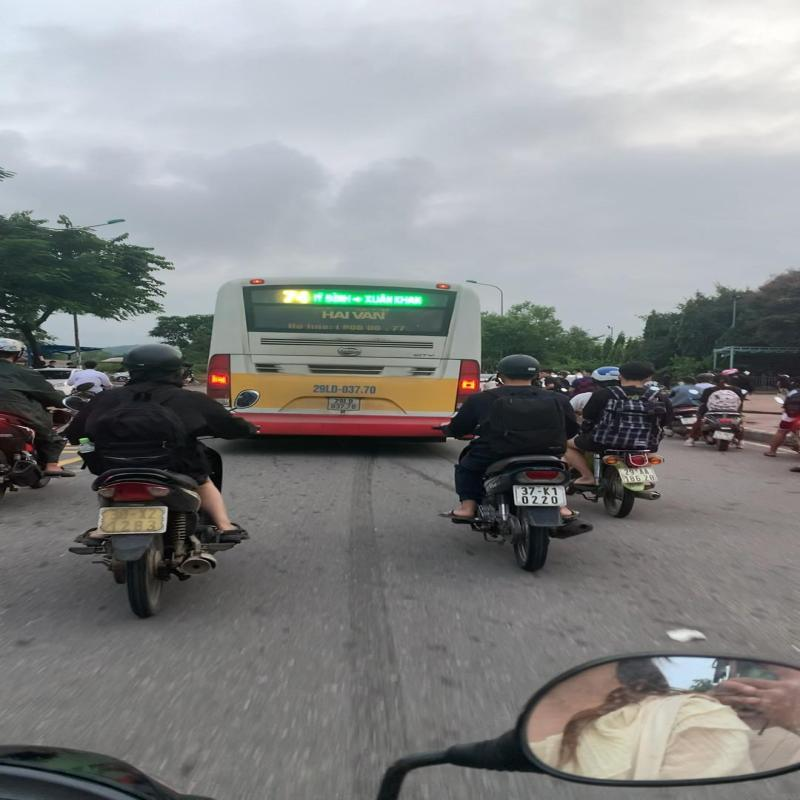helmet: (120, 342, 186, 370), (490, 353, 542, 383), (590, 366, 620, 385)
licenseplate: (95, 504, 169, 536), (508, 482, 570, 508), (616, 466, 660, 484)
motorcyclist: (62, 342, 267, 622), (424, 352, 598, 573), (564, 361, 676, 520)
nohelmet: (614, 362, 655, 384)
